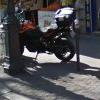Motorcycle: (15, 10, 86, 63)
